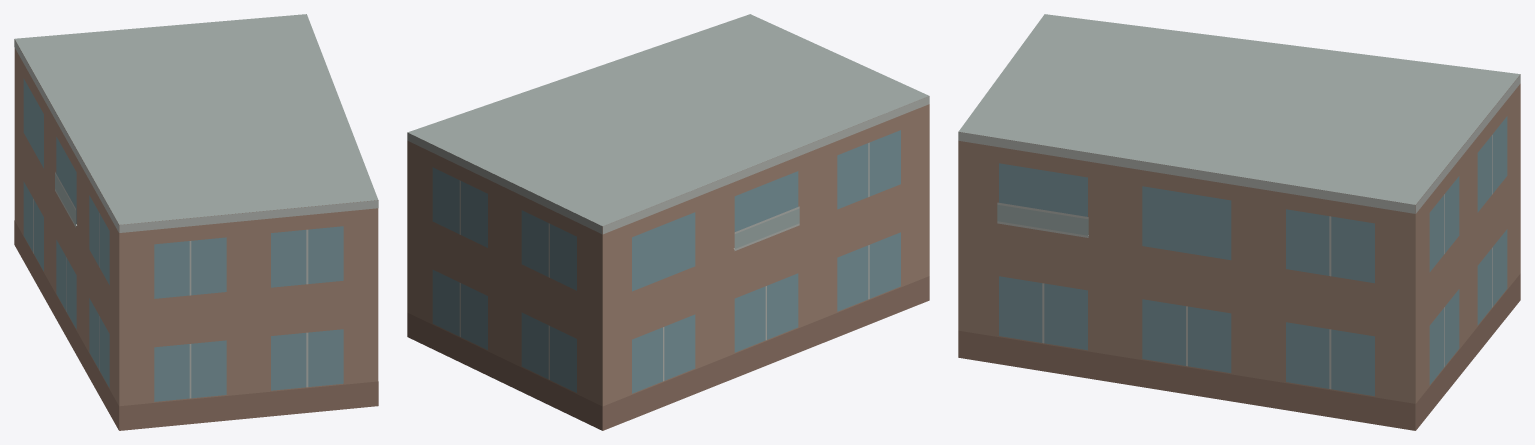
Rendered from survey-upis-32832870.glb.
3 renders of one model, left to right at view 1: azimuth 30°, elevation 25°; view 2: azimuth 150°, elevation 25°; view 3: azimuth 270°, elevation 25°, orthographic. The views are drawn at different scales.
Parts seen in each view (by area): view 1: survey-upis-32832870.tmp; view 2: survey-upis-32832870.tmp; view 3: survey-upis-32832870.tmp.
Part boxes in pixels (x1=…): survey-upis-32832870.tmp: x1=14, y1=14, x2=378, y2=430; survey-upis-32832870.tmp: x1=407, y1=14, x2=929, y2=430; survey-upis-32832870.tmp: x1=958, y1=14, x2=1520, y2=430.
Size of the model in its own units: 11.07 by 6.1 by 13.77.
